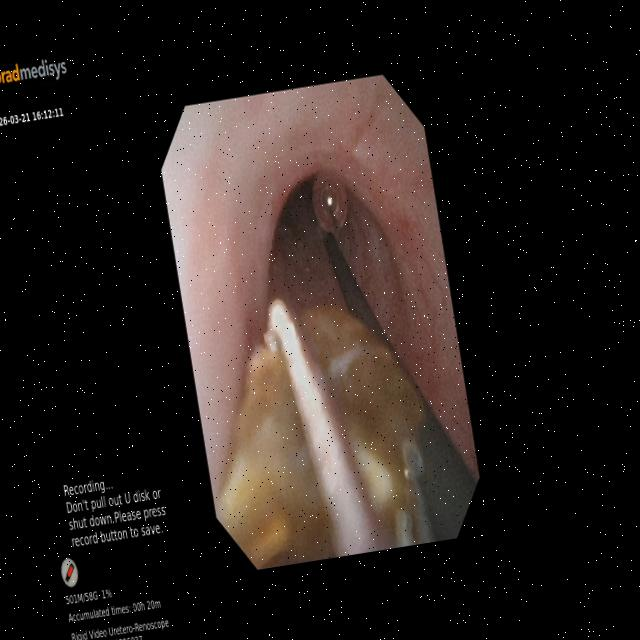stone-new: (297, 307, 439, 546), (222, 340, 340, 567)
